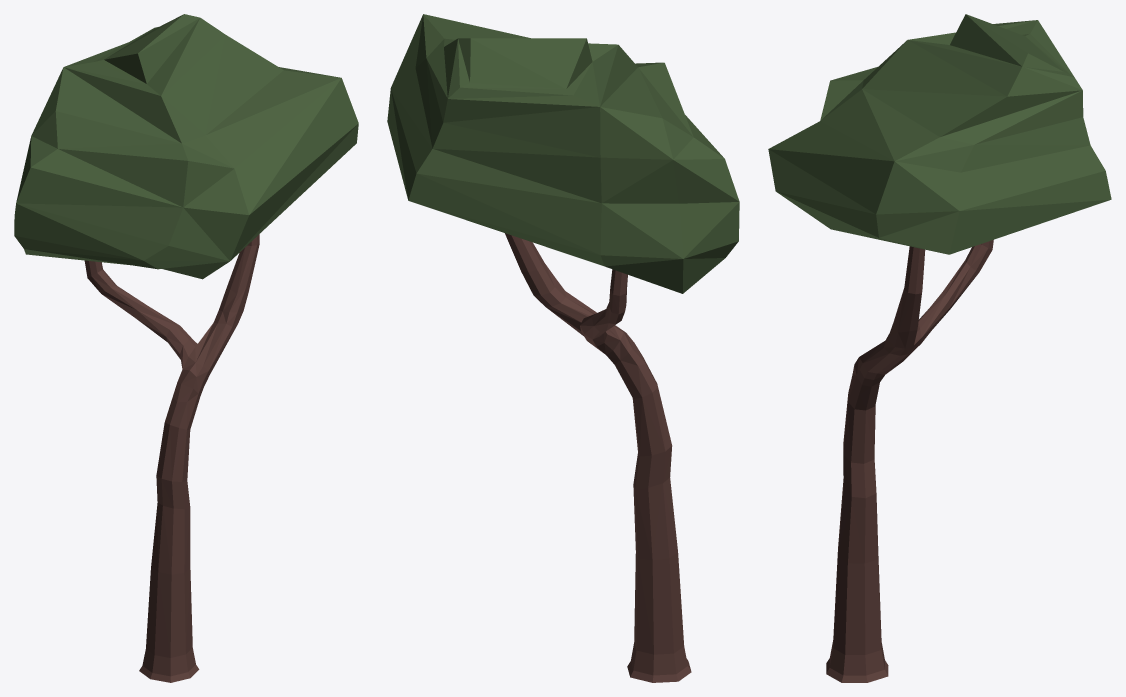
Rendered from tree_apple.s3.glb.
3 renders of one model, left to right at view 1: azimuth 30°, elevation 25°; view 2: azimuth 150°, elevation 25°; view 3: azimuth 270°, elevation 25°, orthographic. The views are drawn at different scales.
Size of the model in its own units: 0.4221 by 0.7552 by 0.3525.
